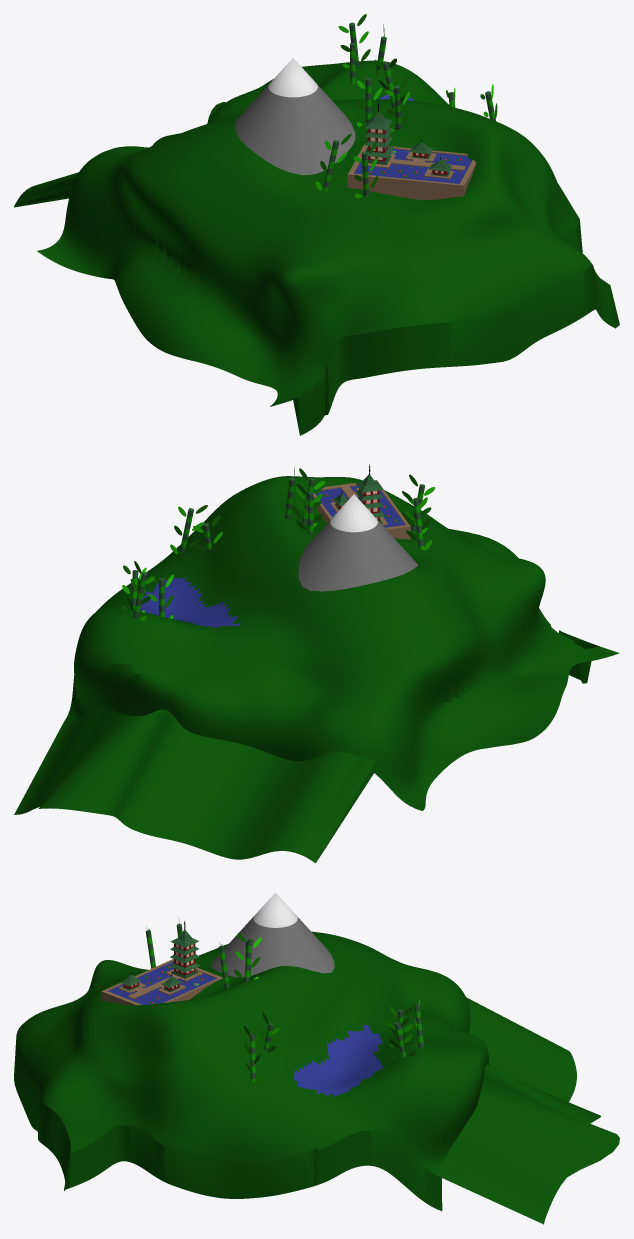
File: Samourais.glb
The picture shows the model from 3 angles, top to bottom: view 1: azimuth 30°, elevation 25°; view 2: azimuth 150°, elevation 25°; view 3: azimuth 270°, elevation 25°; orthographic projection. The views are drawn at different scales.
Parts seen in each view (by area): view 1: Plan, Cône, Sphère.001, Cercle.002; view 2: Plan, Cône, Sphère.001, Cercle.002, Cercle.009, Cercle.005; view 3: Plan, Cône, Sphère.001, Cercle.004.
Boxes of the visible parts, <box> form: Plan: <box>14,60,619,435</box>; Cône: <box>234,58,355,175</box>; Sphère.001: <box>347,101,476,199</box>; Cercle.002: <box>315,134,351,191</box>; Plan: <box>14,476,619,863</box>; Cône: <box>298,494,417,591</box>; Sphère.001: <box>313,464,410,539</box>; Cercle.002: <box>402,491,432,550</box>; Cercle.009: <box>170,505,207,554</box>; Cercle.005: <box>127,561,154,621</box>; Plan: <box>14,931,619,1224</box>; Cône: <box>211,892,334,977</box>; Sphère.001: <box>101,921,222,1005</box>; Cercle.004: <box>234,933,261,981</box>.
Bounding box in the file's own units: 30.91 × 19.35 × 43.61.
